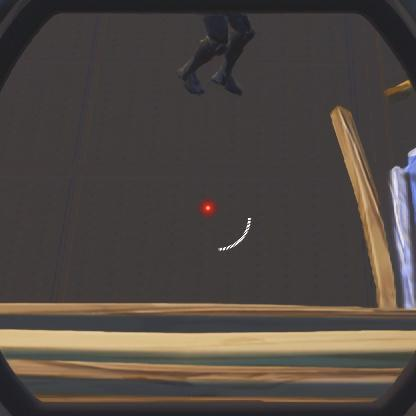person: (175, 13, 255, 96)
